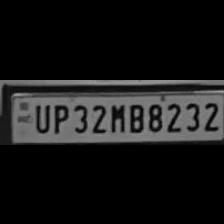2: (200, 97, 220, 131), (88, 99, 106, 133), (163, 98, 181, 132)
3: (70, 99, 89, 133), (182, 97, 200, 130)
8: (145, 100, 163, 132)
B: (126, 99, 144, 133)
M: (107, 100, 125, 134)
P: (50, 100, 68, 134)
U: (31, 100, 49, 134)
